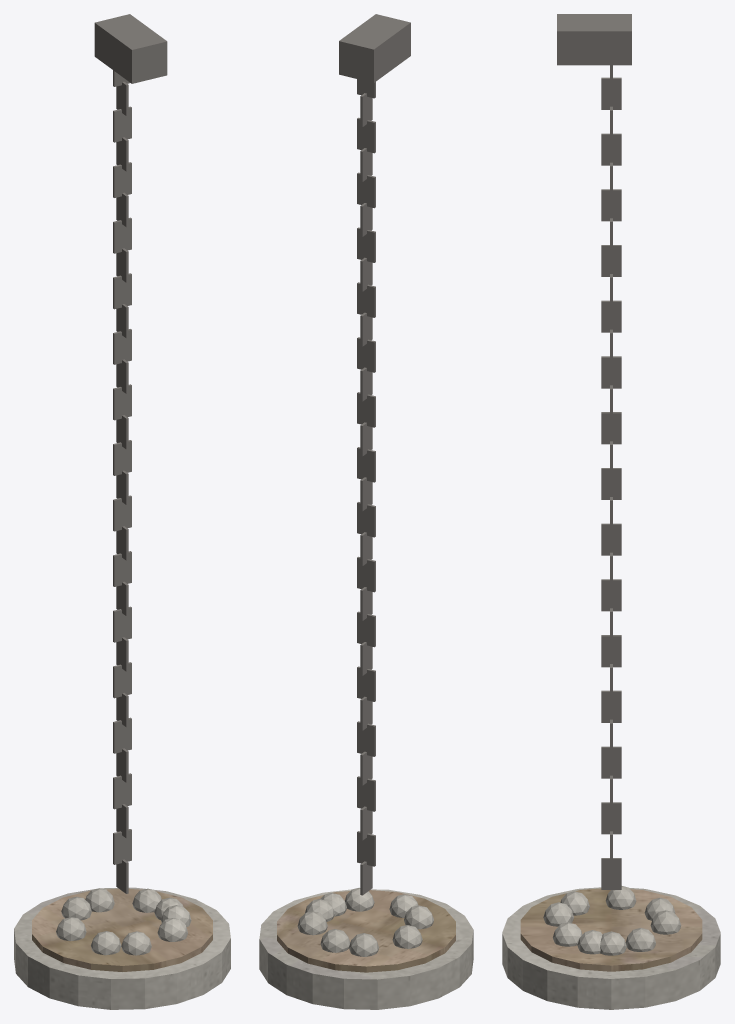
File: rain_chain.glb
3 renders of one model, left to right at view 1: azimuth 30°, elevation 25°; view 2: azimuth 150°, elevation 25°; view 3: azimuth 270°, elevation 25°, orthographic.
Visible parts, largest first — view 1: rain_chain_metal, rain_chain_concrete, rain_chain_stone2; view 2: rain_chain_metal, rain_chain_concrete, rain_chain_stone2; view 3: rain_chain_concrete, rain_chain_metal, rain_chain_stone2.
Boxes of the visible parts, x1,y1,x2,y2 form: rain_chain_metal: (94, 14, 167, 893); rain_chain_concrete: (14, 887, 230, 1009); rain_chain_stone2: (32, 888, 212, 971); rain_chain_metal: (339, 14, 410, 895); rain_chain_concrete: (259, 887, 473, 1009); rain_chain_stone2: (277, 890, 455, 972); rain_chain_concrete: (502, 886, 720, 1009); rain_chain_metal: (557, 14, 631, 889); rain_chain_stone2: (520, 888, 702, 971).
Size of the model in its own units: 0.64 by 3.04 by 0.64.
Materials: 3 (2 with a texture image).
